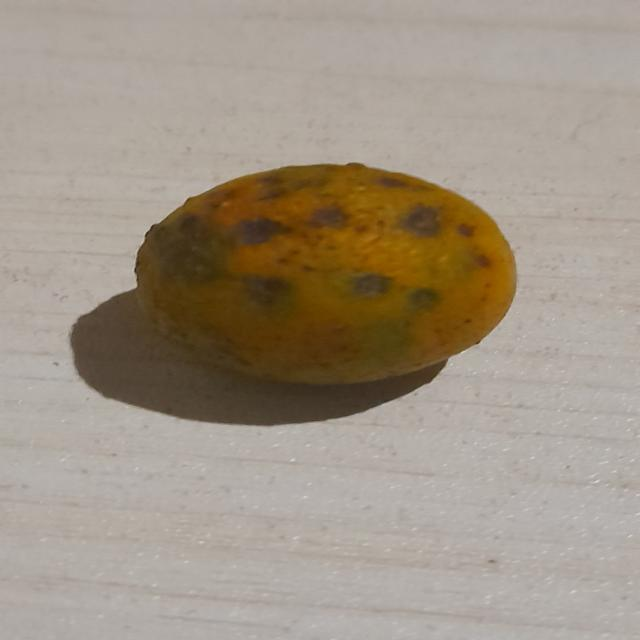black spot: (127, 163, 518, 395)
